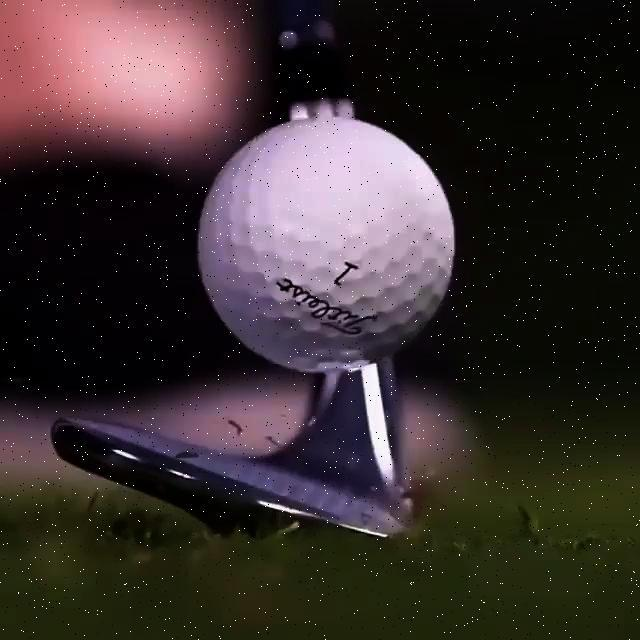golf ball: (198, 107, 443, 356)
golf club-handle: (48, 0, 487, 564)
golf club-head: (54, 397, 430, 563)
